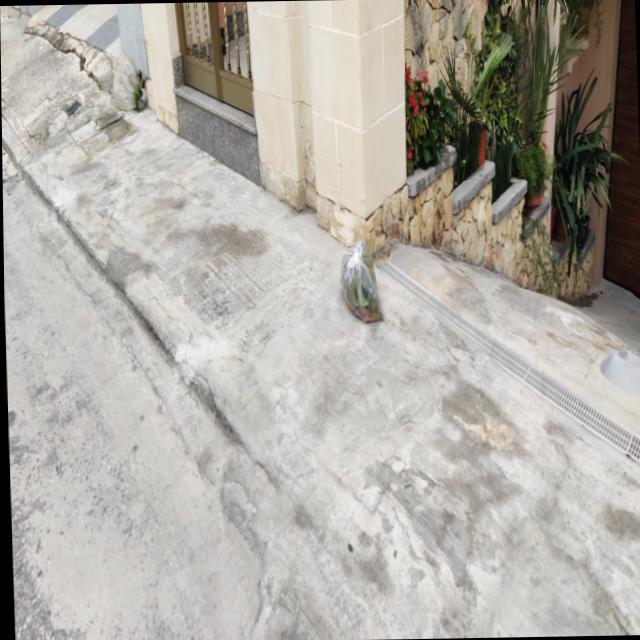Organic Waste -White Bags-: (337, 239, 385, 324)
